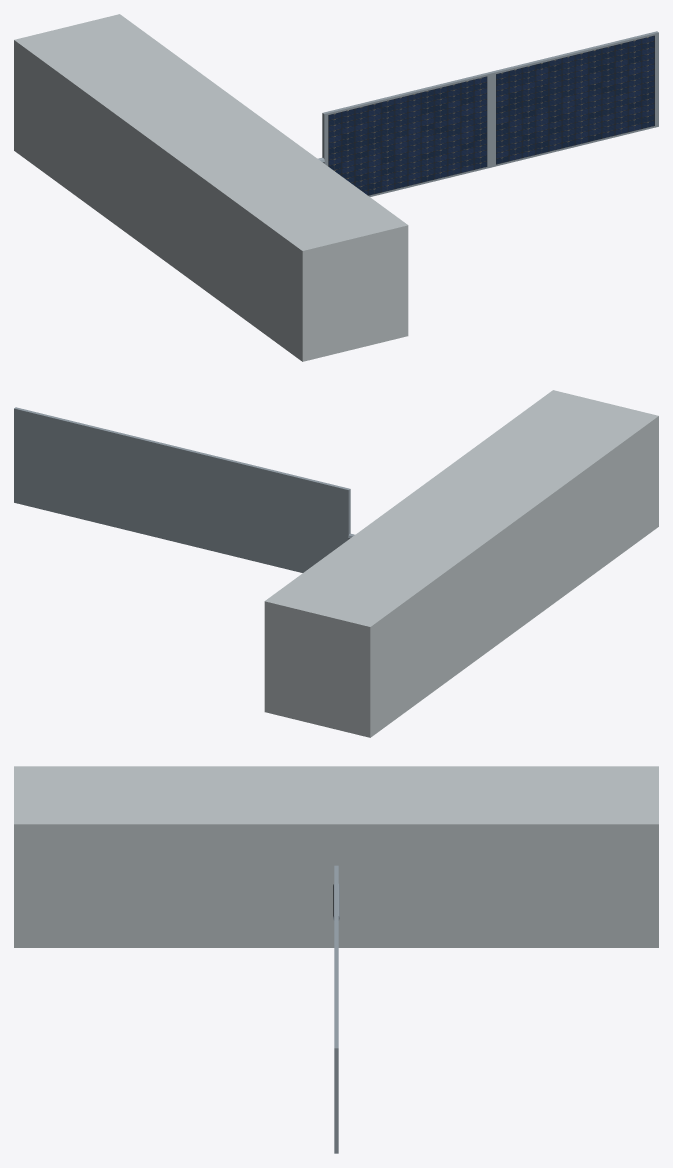
File: ref-esa-ers-21574.glb
3 renders of one model, top to bottom at view 1: azimuth 30°, elevation 25°; view 2: azimuth 150°, elevation 25°; view 3: azimuth 270°, elevation 25°, orthographic. The views are drawn at different scales.
Visible parts, largest first — view 1: Spacecraft body, Photovoltaic laminates (×2), Array frame (×2); view 2: Spacecraft body, Array frame (×2); view 3: Spacecraft body, Array frame.
Boxes of the visible parts, box(x1,y1,x2,y2) form: Spacecraft body: box(14, 14, 408, 361); Photovoltaic laminates (×2): box(328, 35, 654, 195); Array frame (×2): box(322, 31, 658, 196); Spacecraft body: box(264, 390, 658, 737); Array frame (×2): box(14, 407, 350, 572); Spacecraft body: box(14, 766, 658, 947); Array frame: box(334, 957, 338, 1153).
Size of the model in its own units: 11.8 by 2.5 by 11.8.
Materials: 3 (1 with a texture image).
